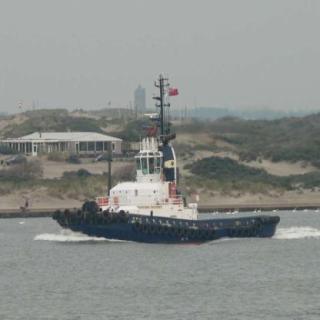Tug Boat: (56, 119, 283, 240)
